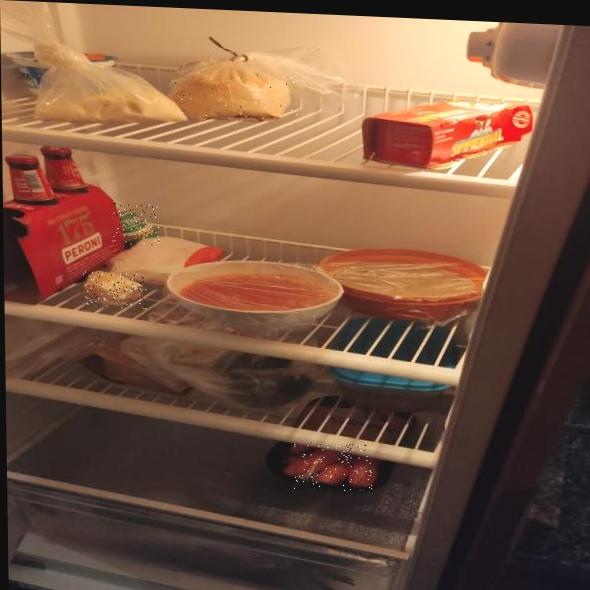carrots: (293, 442, 373, 493)
cheese: (174, 67, 298, 125), (81, 271, 147, 309)
yoghurt: (111, 203, 162, 246)
